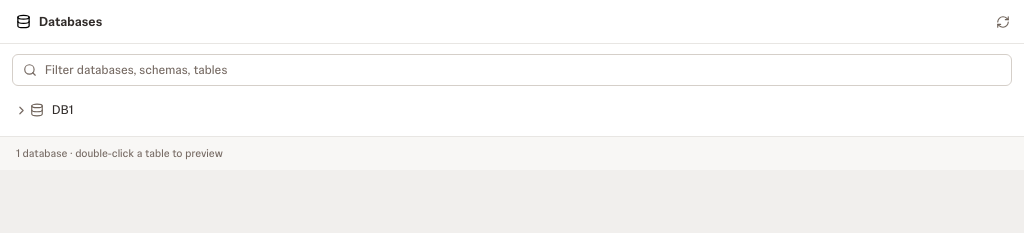
it: reads live lists and re-reads what is expanded when objects change
Later steps or results of the test are not shown.
Step 1. Click the list item "DB1" → point(43, 110), box [12, 101, 73, 119]
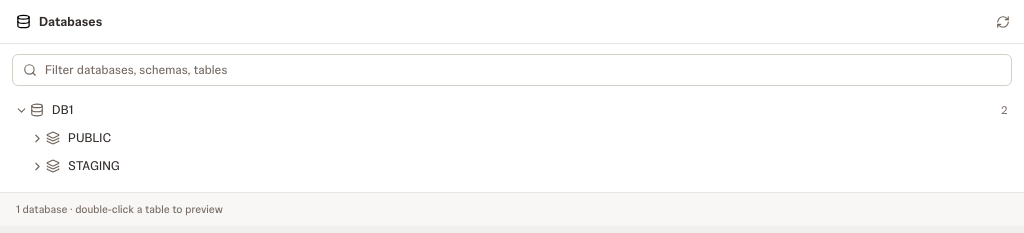
Now the text "PUBLIC" is shown, box [68, 130, 111, 146]
Now the text "STAGING" is shown, box [68, 158, 120, 174]
